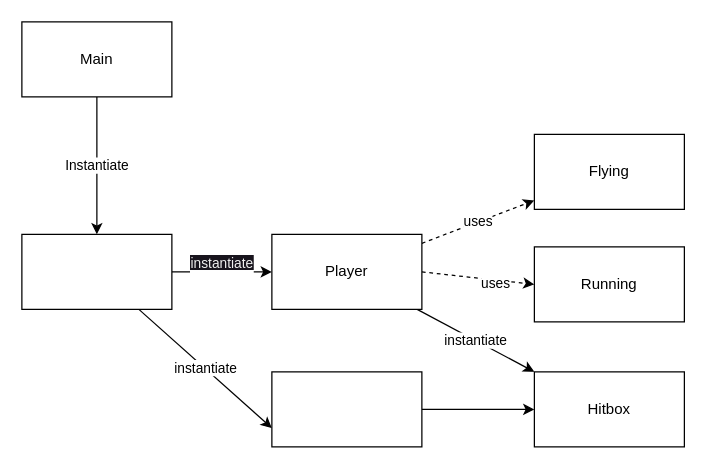
This 706x469 diagram has some shape labels left out. Each missing label, with the centre of its shape:
"Game" goes at (x=96, y=271).
"Obstacle" goes at (x=346, y=409).
